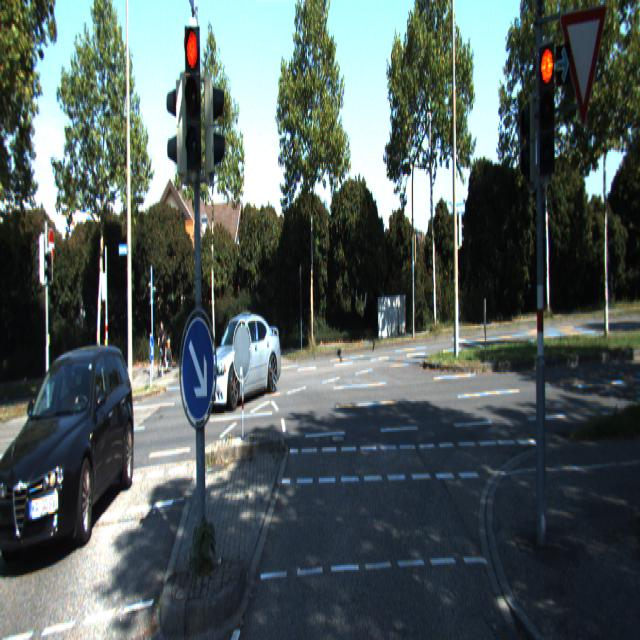Car: (0, 335, 140, 572), (196, 311, 284, 416)
DontCare: (158, 316, 174, 377)
